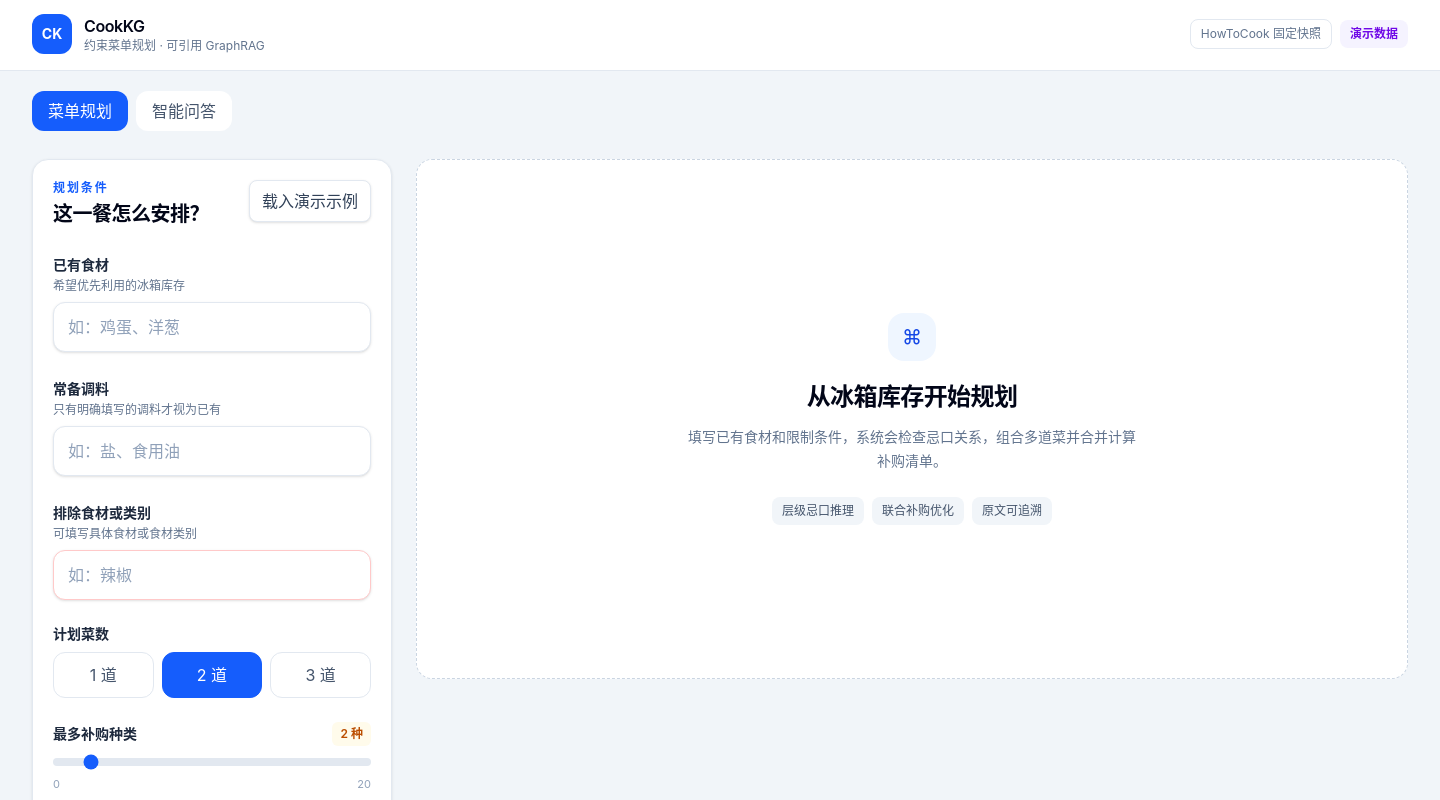
Test: CookKG planner page › accepts a hard-constraint question in the agent view
Click the button "智能问答" at (184, 111), box [136,91,232,131]
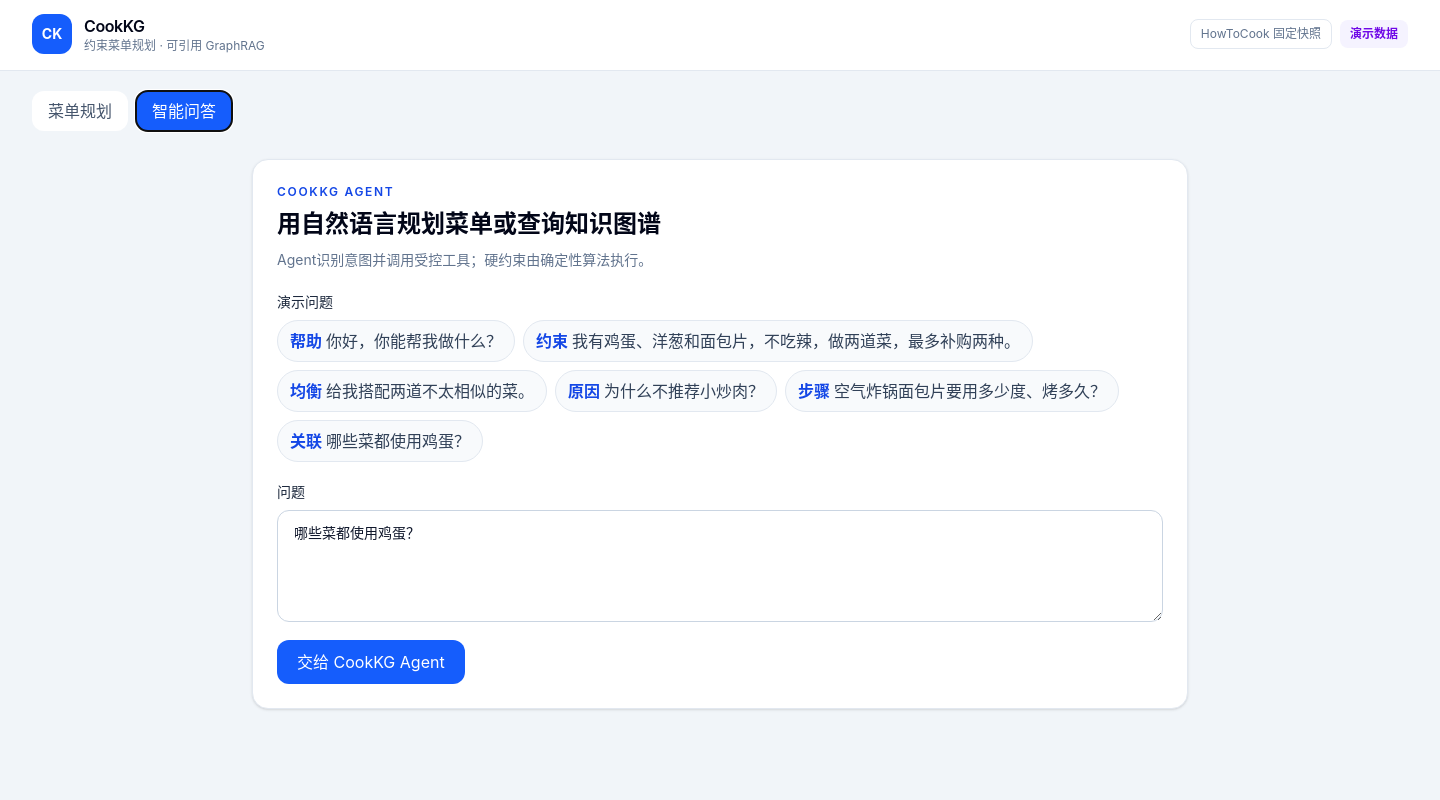
Click the 4th button at (778, 341), box [523,320,1033,362]
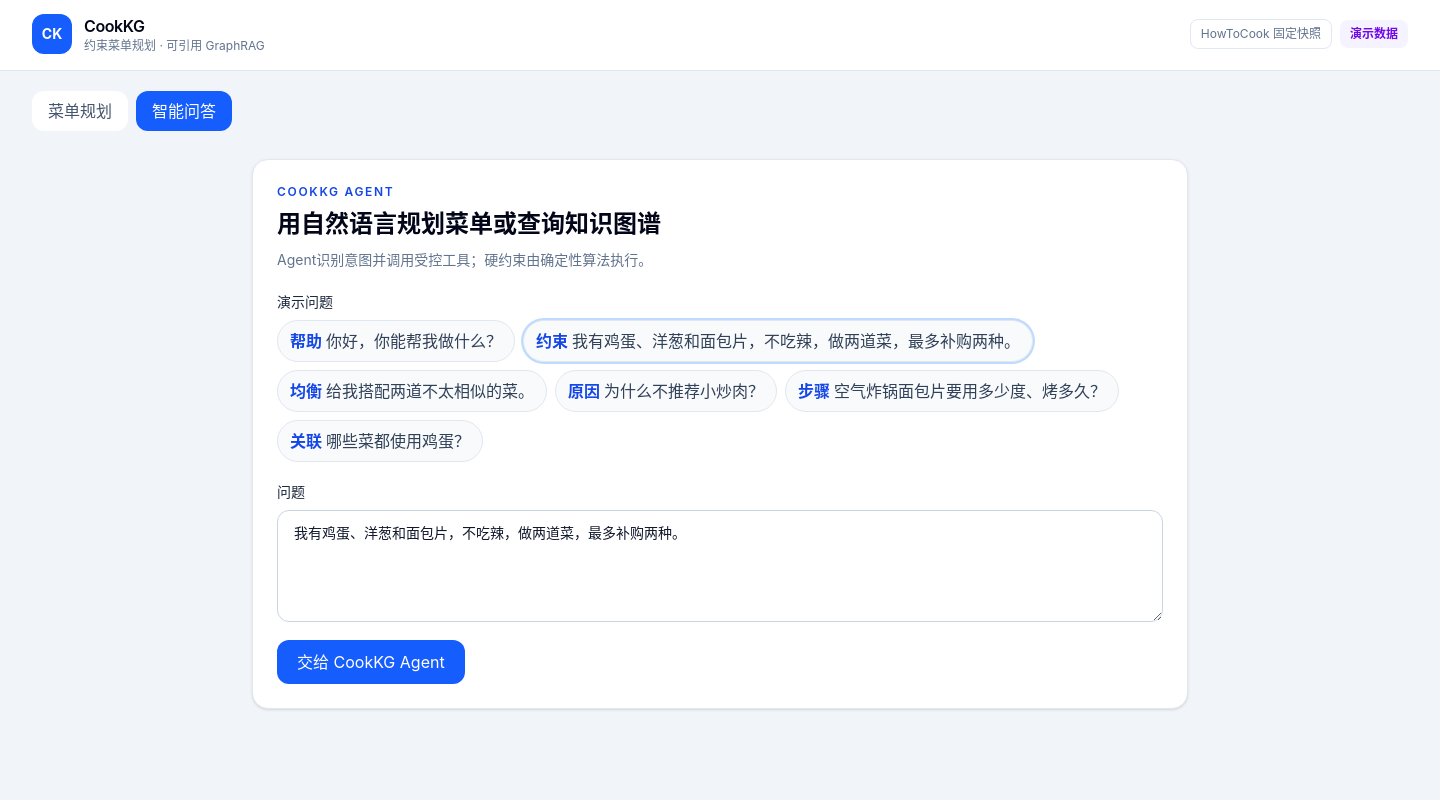
Click the button "交给 CookKG Agent" at (371, 662), box [277,640,465,684]
(page scrolled)
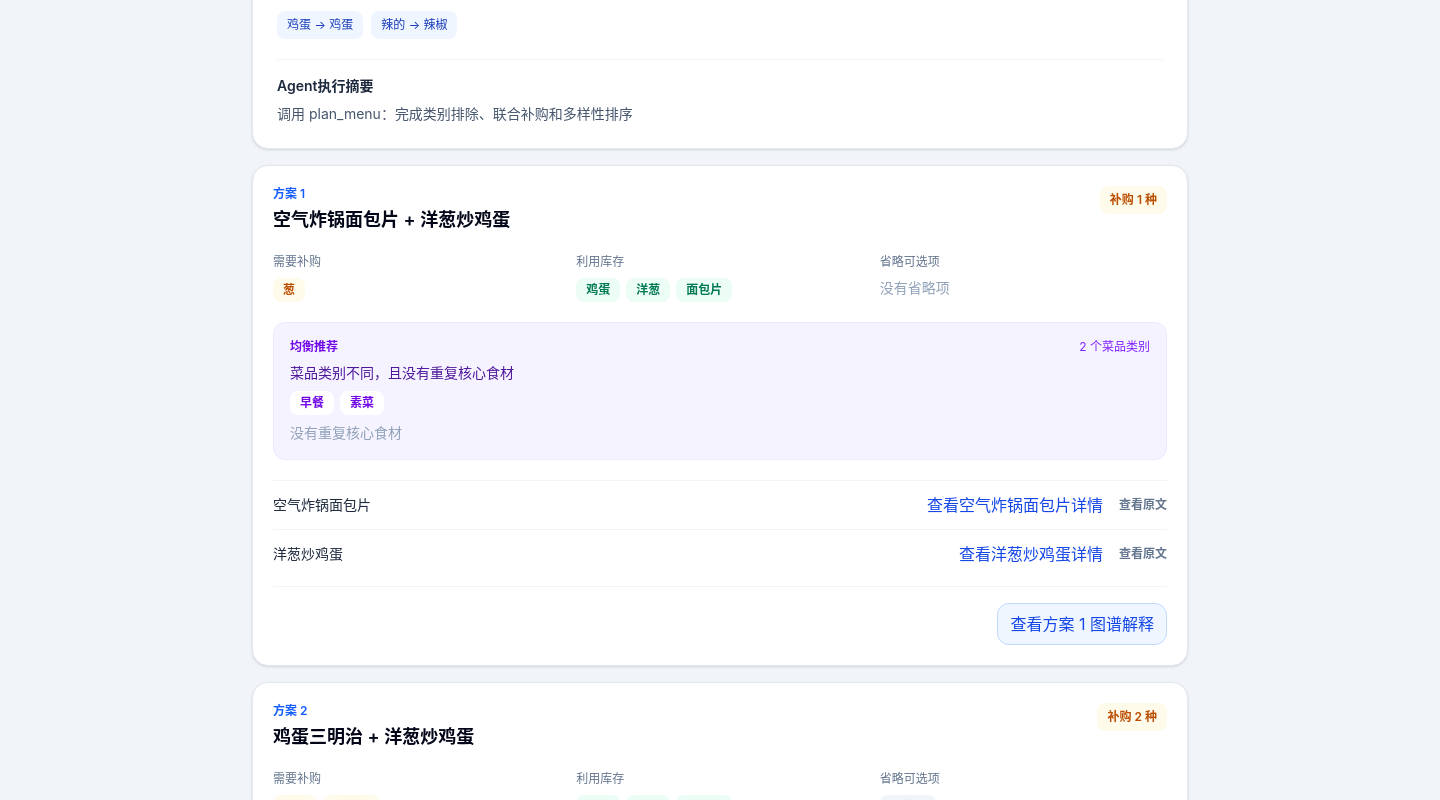
Expected: the text "辣的 → 辣椒" is shown, [371,11,457,39]
Expected: the text "菜品类别不同，且没有重复核心食材" is shown, [290,364,514,381]
Expected: the text "早餐" is shown, [290,391,334,415]
